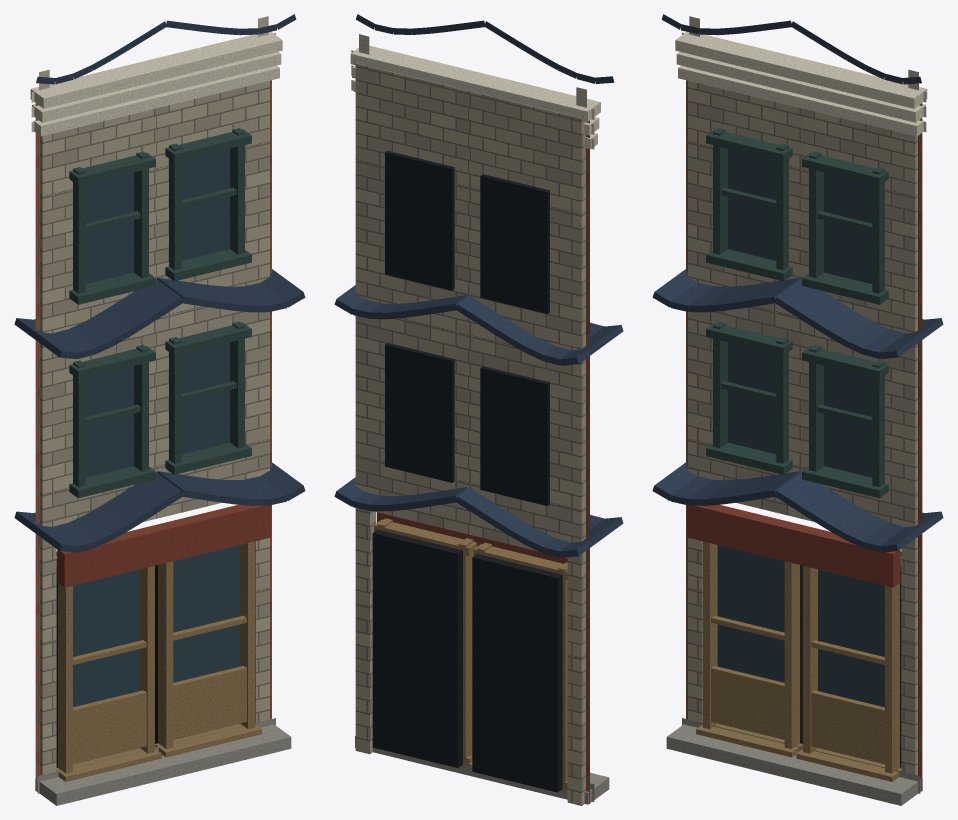
File: CHINA13_lod2.glb
The picture shows the model from 3 angles, left to right: view 1: azimuth 30°, elevation 25°; view 2: azimuth 150°, elevation 25°; view 3: azimuth 330°, elevation 25°; orthographic projection.
Visible parts, largest first — view 1: CHINA13_FRONT_LOD2; view 2: CHINA13_FRONT_LOD2; view 3: CHINA13_FRONT_LOD2.
Boxes of the visible parts, x1,y1,x2,y2 form: CHINA13_FRONT_LOD2: [14, 14, 305, 805]; CHINA13_FRONT_LOD2: [334, 14, 623, 805]; CHINA13_FRONT_LOD2: [652, 14, 943, 805].
Bounding box in the file's own units: 3.66 × 10.09 × 1.1.
12 materials, 10 textured.
